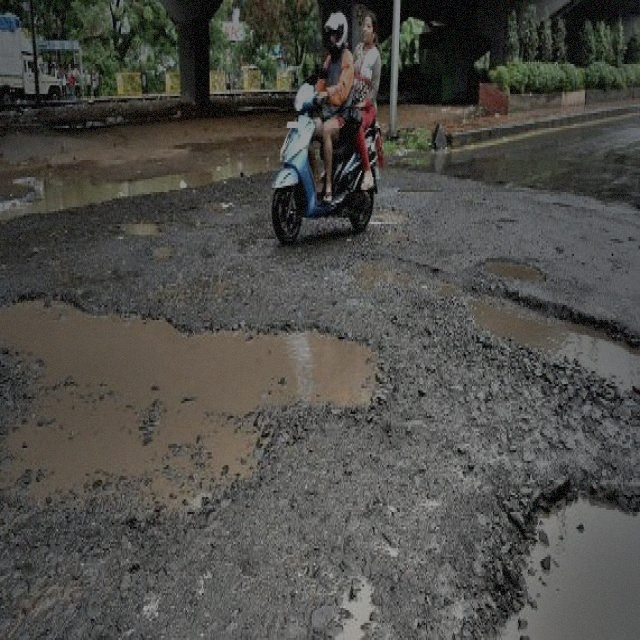pothole: (0, 288, 389, 516), (481, 473, 639, 638), (459, 286, 639, 392), (476, 252, 545, 286)
